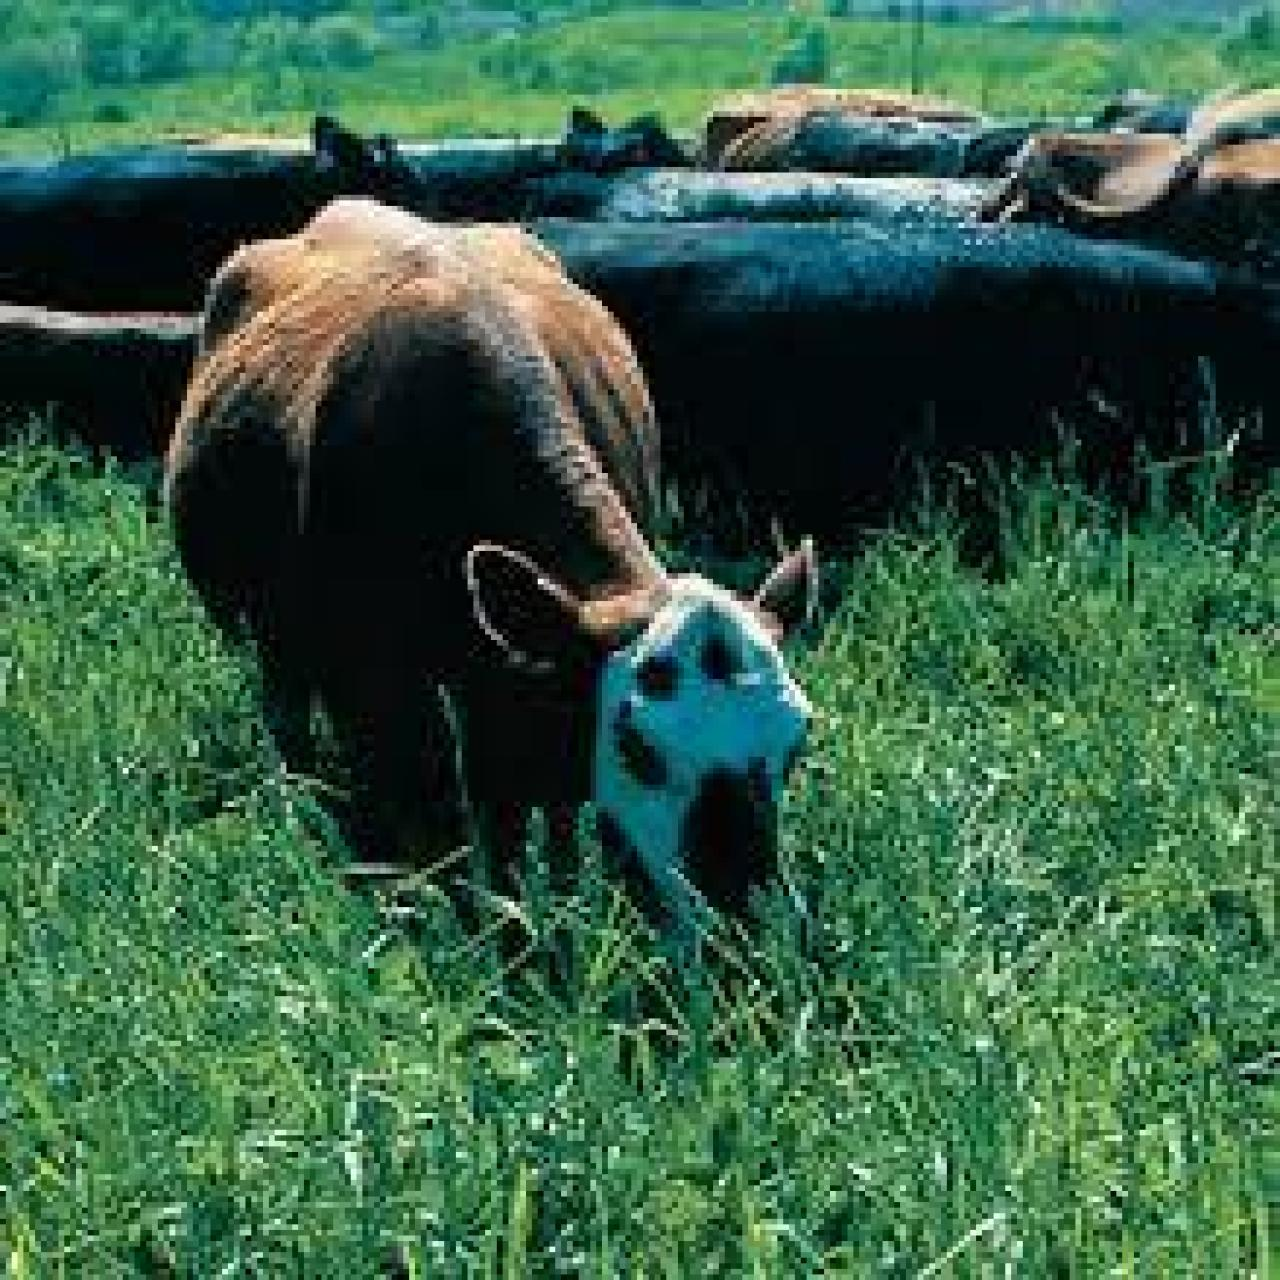cow: (158, 206, 818, 996), (517, 219, 1231, 543)
